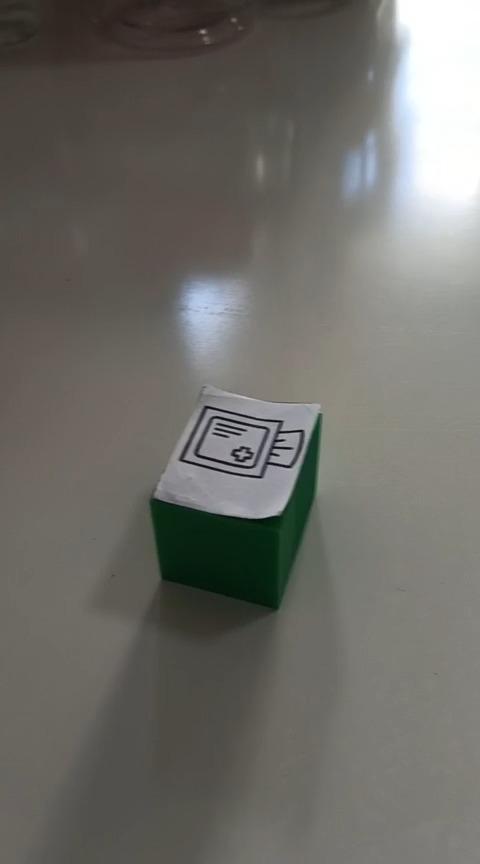Gauze: (148, 383, 323, 610)
